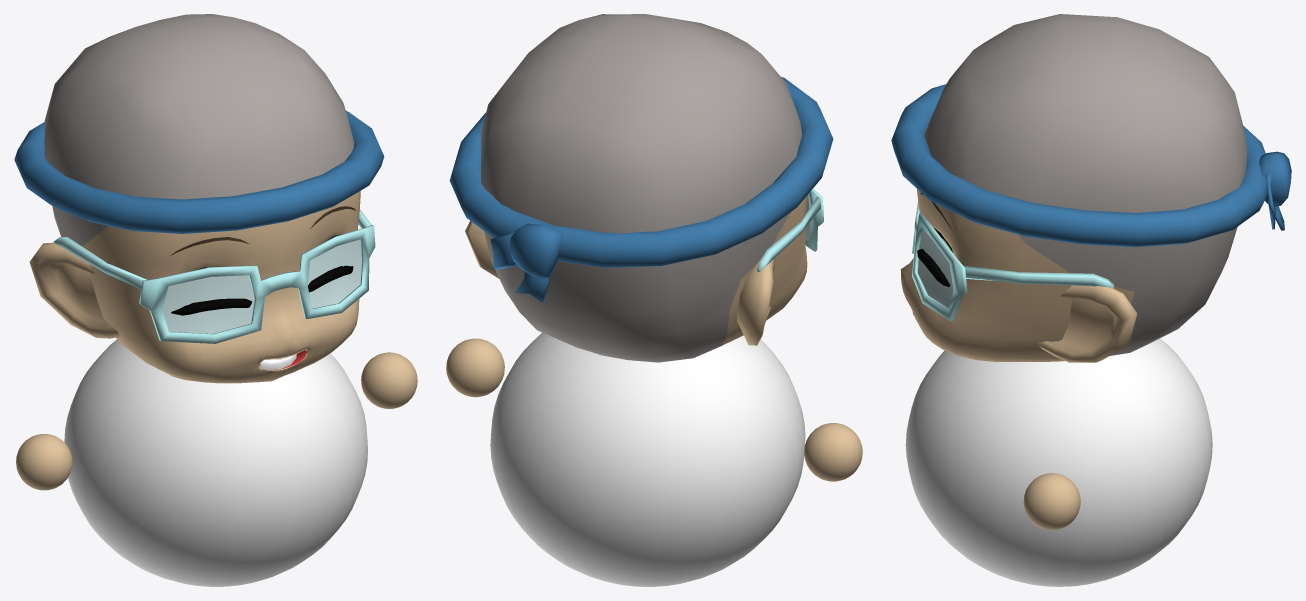
The model's file is sushi.glb.
The picture shows the model from 3 angles, left to right: view 1: azimuth 30°, elevation 25°; view 2: azimuth 150°, elevation 25°; view 3: azimuth 270°, elevation 25°; orthographic projection. The views are drawn at different scales.
Visible parts, largest first — view 1: sushi, sushi.hair, sushi.skin, sushi.skin.right.hand, sushi.skin.left.hand; view 2: sushi, sushi.hair, sushi.skin, sushi.skin.right.hand, sushi.skin.left.hand; view 3: sushi, sushi.hair, sushi.skin, sushi.skin.right.hand.
Part boxes in pixels (x1,y1,x2,y2): sushi: (14, 110, 384, 586); sushi.hair: (44, 14, 354, 246); sushi.skin: (29, 191, 360, 383); sushi.skin.right.hand: (361, 352, 417, 408); sushi.skin.left.hand: (16, 434, 72, 490); sushi: (449, 77, 833, 586); sushi.hair: (481, 14, 802, 362); sushi.skin: (465, 195, 807, 345); sushi.skin.right.hand: (446, 338, 504, 397); sushi.skin.left.hand: (804, 423, 862, 481); sushi: (891, 84, 1291, 586); sushi.hair: (924, 14, 1247, 355); sushi.skin: (900, 189, 1137, 362); sushi.skin.right.hand: (1023, 473, 1080, 530).
Size of the model in its own units: 0.3156 by 0.4066 by 0.2753.
Materials: 2 (2 with a texture image).
